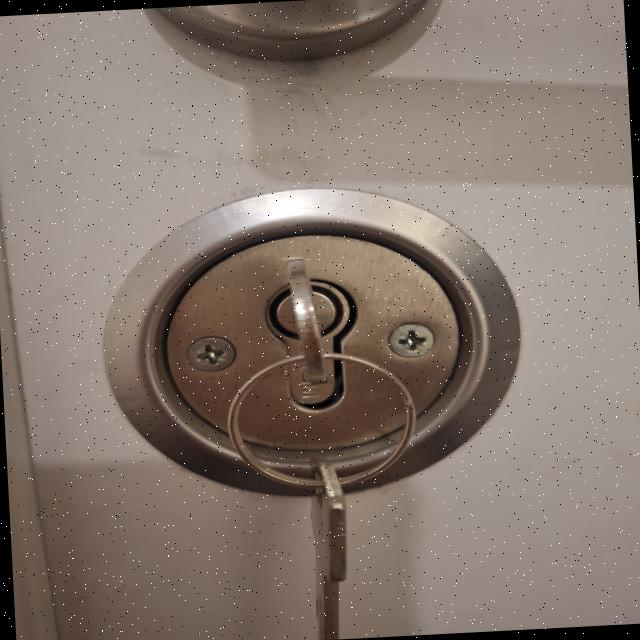Phillips: (183, 336, 236, 372), (388, 325, 437, 361)
